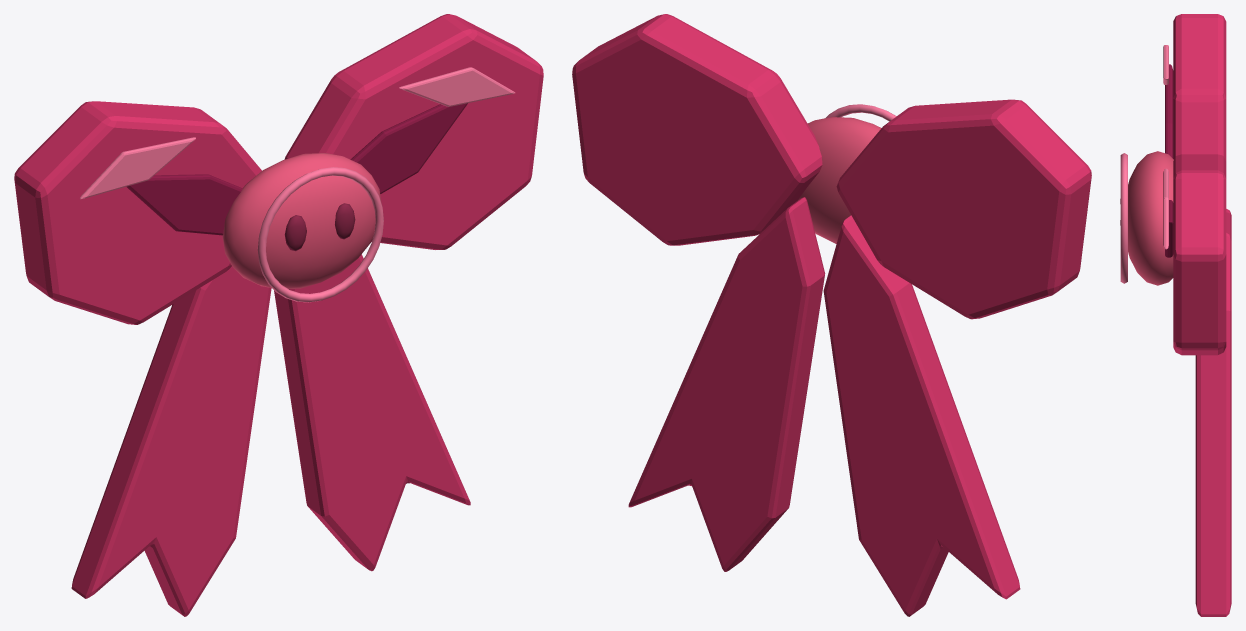
The model's file is itm-pigribbon.glb.
The picture shows the model from 3 angles, left to right: view 1: azimuth 30°, elevation 25°; view 2: azimuth 150°, elevation 25°; view 3: azimuth 270°, elevation 25°; orthographic projection. The views are drawn at different scales.
Visible parts, largest first — view 1: itm-pigribbon; view 2: itm-pigribbon; view 3: itm-pigribbon.
Boxes of the visible parts, <box> form: itm-pigribbon: <box>14,14,543,616</box>; itm-pigribbon: <box>572,14,1091,616</box>; itm-pigribbon: <box>1120,14,1231,616</box>.
Size of the model in its own units: 0.3785 by 0.377 by 0.08.
